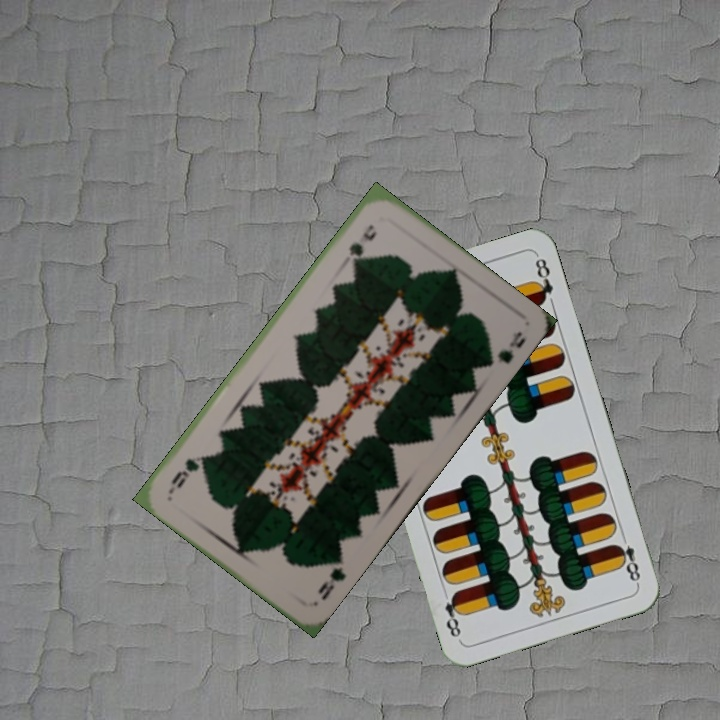E8: (611, 529, 643, 587)
G9: (313, 551, 349, 603), (345, 220, 379, 266)
